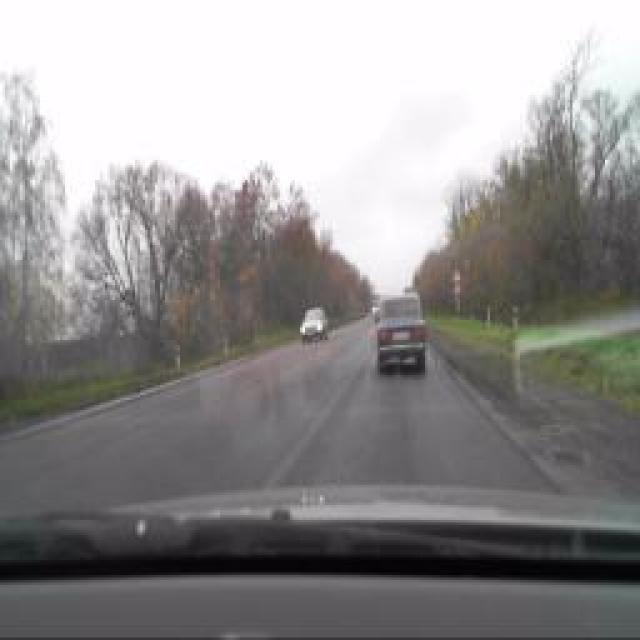sign: (451, 268, 464, 282)
